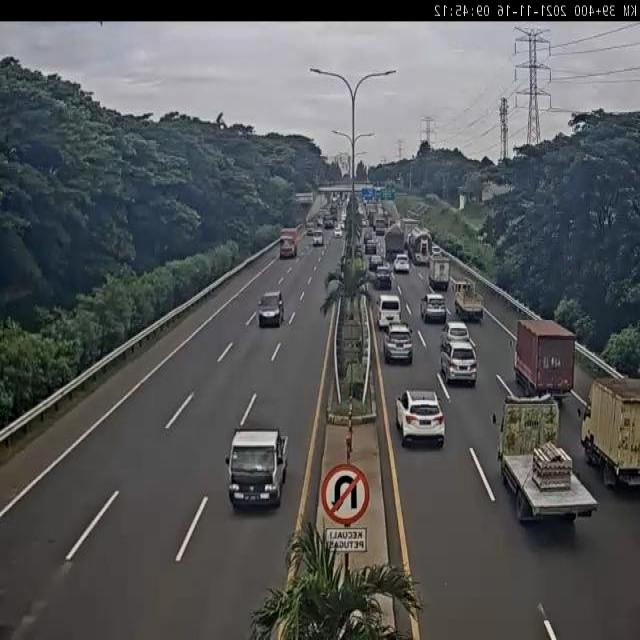Car: (226, 427, 286, 508), (396, 390, 447, 449), (440, 332, 477, 386), (384, 327, 414, 364), (440, 318, 471, 351), (259, 290, 284, 324), (422, 293, 447, 322), (394, 256, 410, 274), (368, 252, 383, 270)
Truck: (491, 395, 596, 519), (579, 377, 640, 494), (515, 319, 574, 396), (453, 279, 483, 321), (408, 228, 433, 266), (429, 257, 450, 290), (280, 228, 298, 258)
Van: (377, 293, 401, 329)
